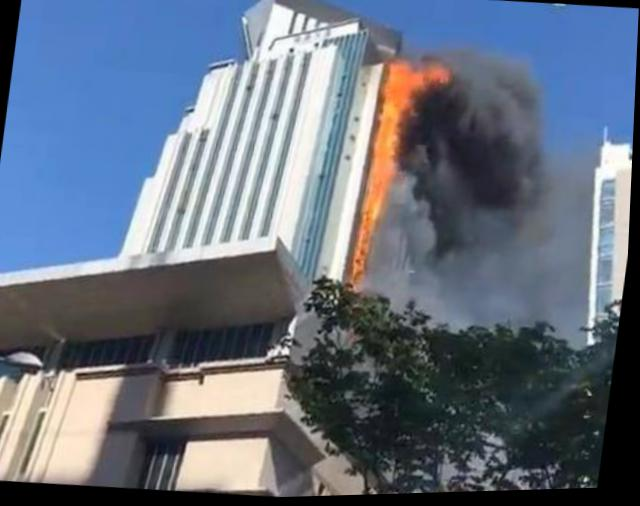fire: (350, 51, 451, 305)
